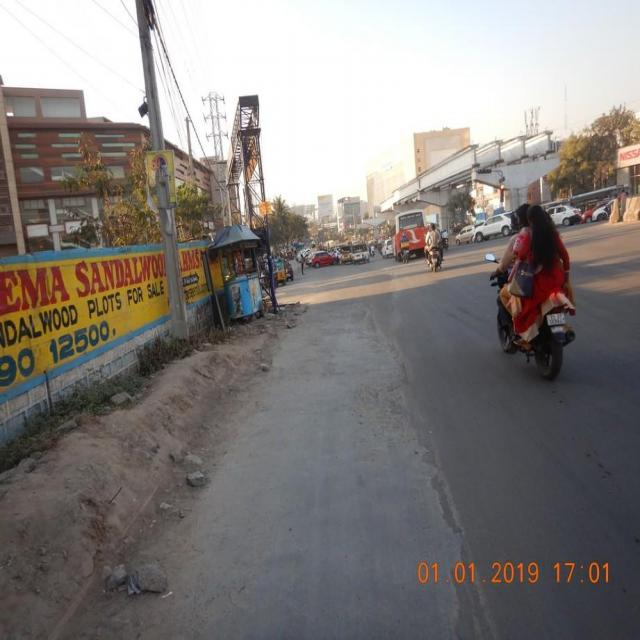plate: (545, 311, 567, 327)
